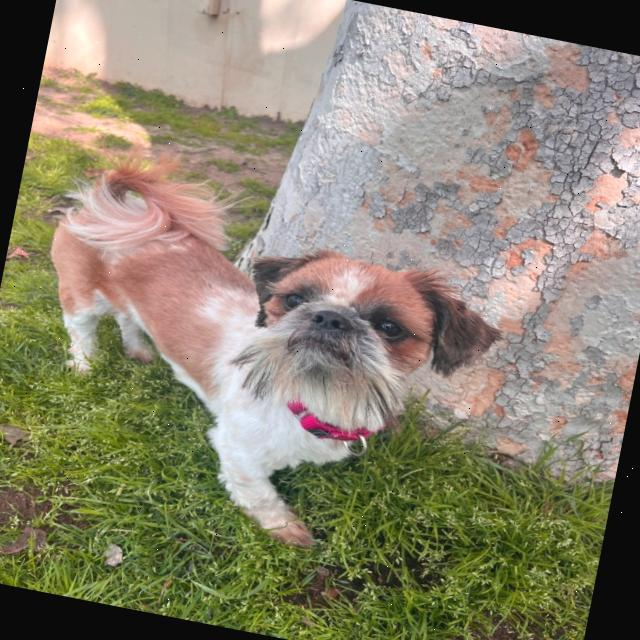shih_tzu_dog: (209, 223, 516, 450)
